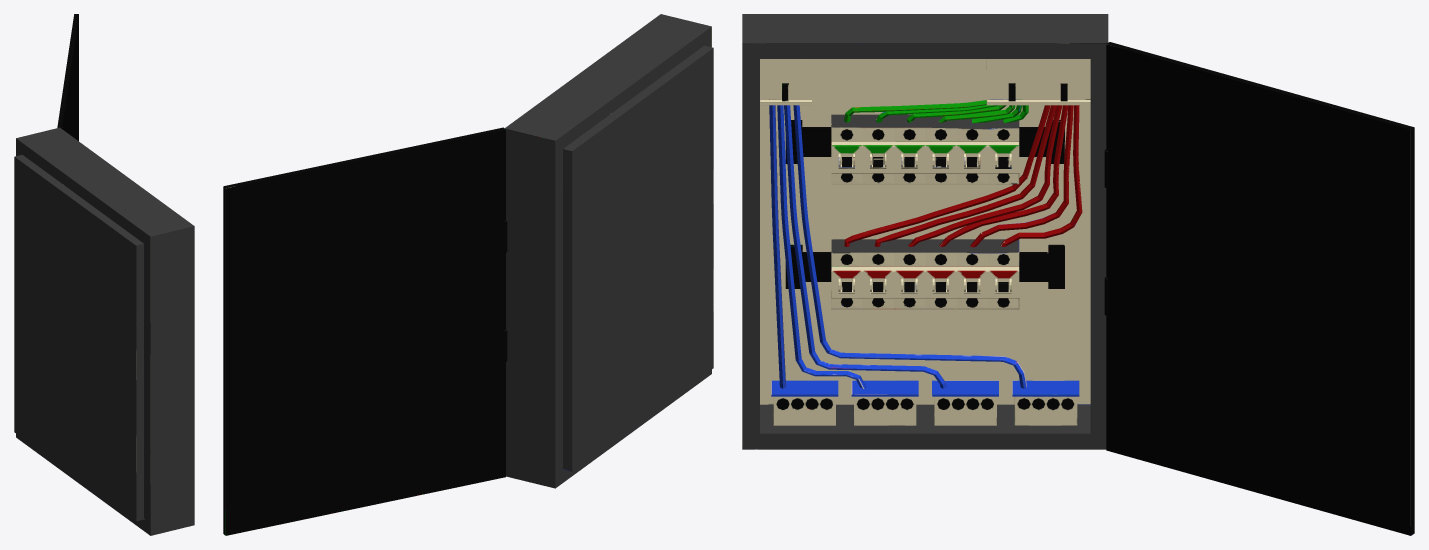
Rendered from fusebox.fbx.
The picture shows the model from 3 angles, left to right: view 1: azimuth 30°, elevation 25°; view 2: azimuth 150°, elevation 25°; view 3: azimuth 270°, elevation 25°; orthographic projection. The views are drawn at different scales.
Visible parts, largest first — view 1: Breaker Org; view 2: Breaker Org; view 3: Breaker Org.
Part boxes in pixels (x1,y1,x2,y2): Breaker Org: (14, 14, 194, 535); Breaker Org: (223, 14, 713, 535); Breaker Org: (742, 14, 1414, 535).
Bounding box in the file's own units: 18.27 × 28.64 × 42.93.
